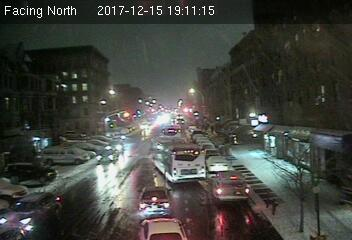bus: (151, 136, 207, 184)
car: (1, 190, 67, 229), (137, 185, 175, 218), (137, 217, 187, 240), (213, 171, 248, 201), (206, 154, 228, 172), (96, 147, 119, 163)
